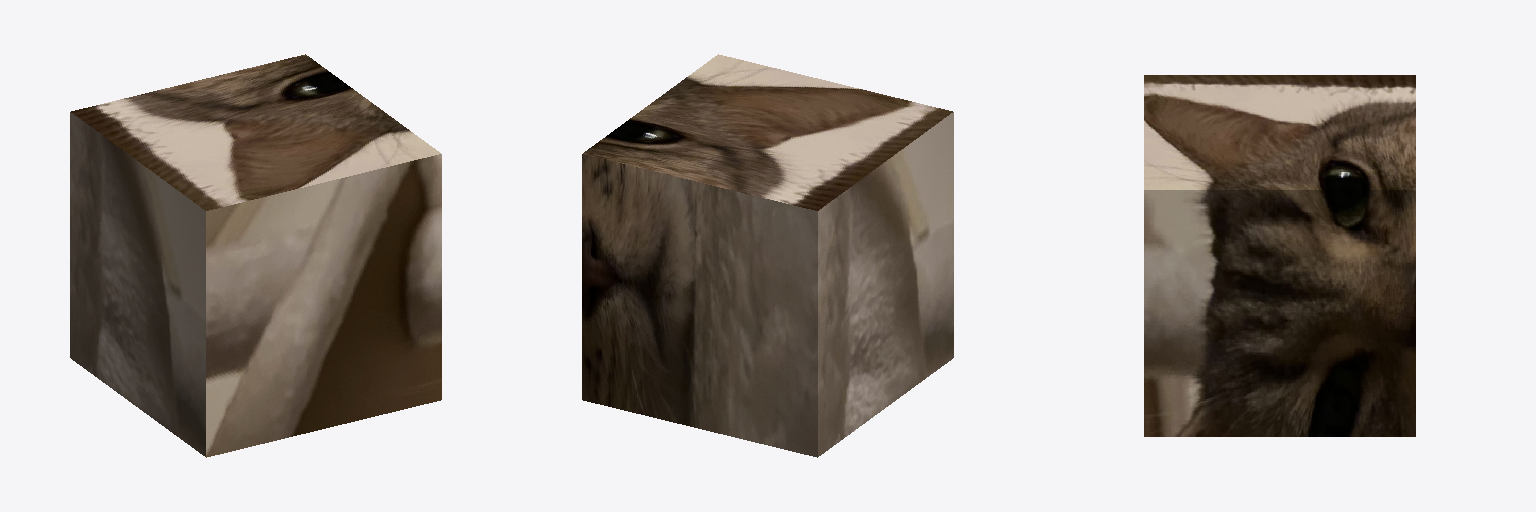
3 views of the same model, side by side, from view 1: azimuth 30°, elevation 25°; view 2: azimuth 150°, elevation 25°; view 3: azimuth 270°, elevation 25° (orthographic).
Visible parts, largest first — view 1: Cube; view 2: Cube; view 3: Cube.
Part boxes in pixels (left/top/right/bottom): Cube: left=70, top=54, right=441, bottom=457; Cube: left=582, top=54, right=953, bottom=457; Cube: left=1144, top=75, right=1415, bottom=436.
Bounding box in the file's own units: 2 × 2 × 2.
Materials: 1 (1 with a texture image).